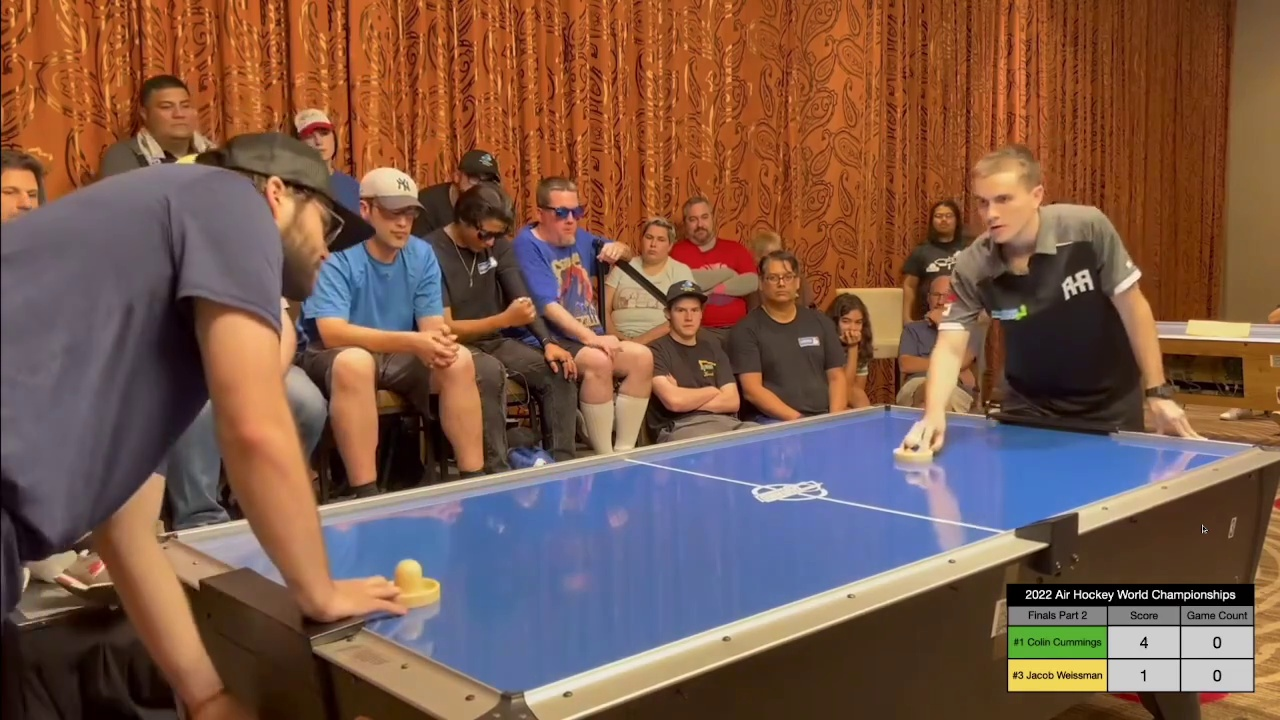player: (386, 561, 447, 612), (887, 429, 937, 457)
table: (116, 400, 1280, 695)
